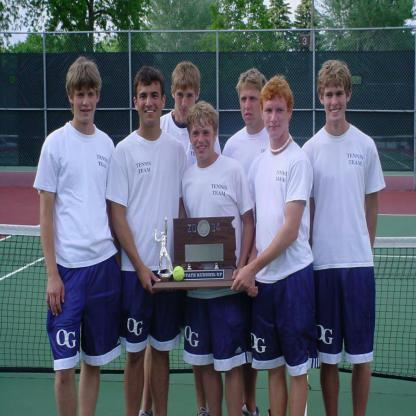face: (264, 98, 289, 139), (138, 82, 161, 126), (191, 121, 214, 161), (241, 85, 261, 127), (325, 84, 347, 122), (175, 82, 196, 119), (75, 86, 95, 123), (162, 233, 165, 238)
